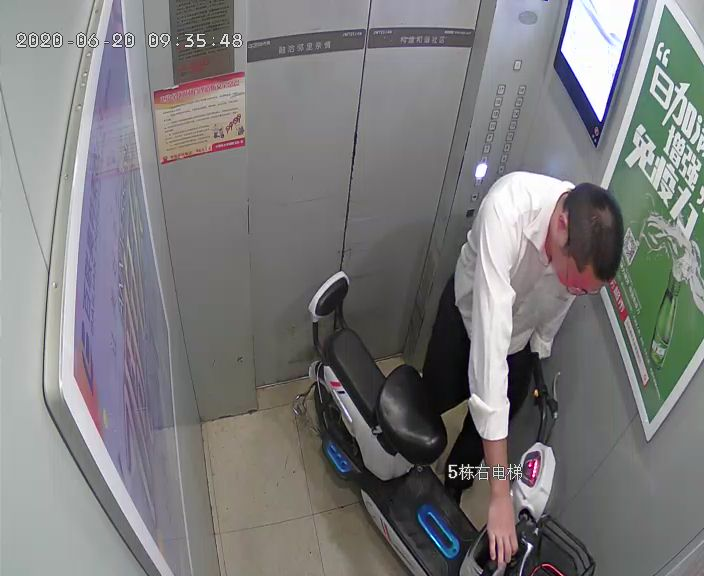Electric-bicycle: (289, 266, 596, 575)
